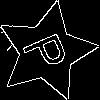P: (21, 26, 78, 76)
